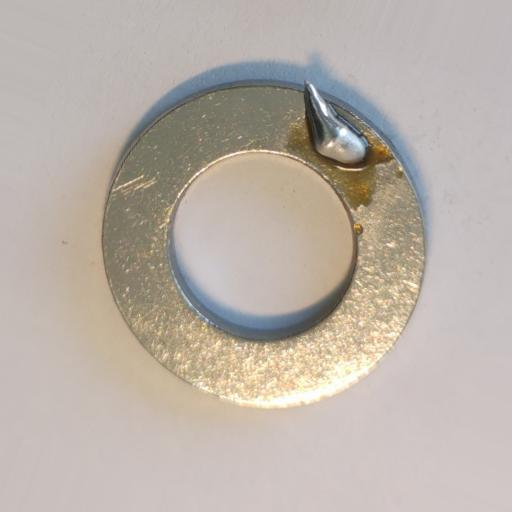circular_cavity: (354, 223, 364, 235)
excess_material: (300, 79, 372, 167)
